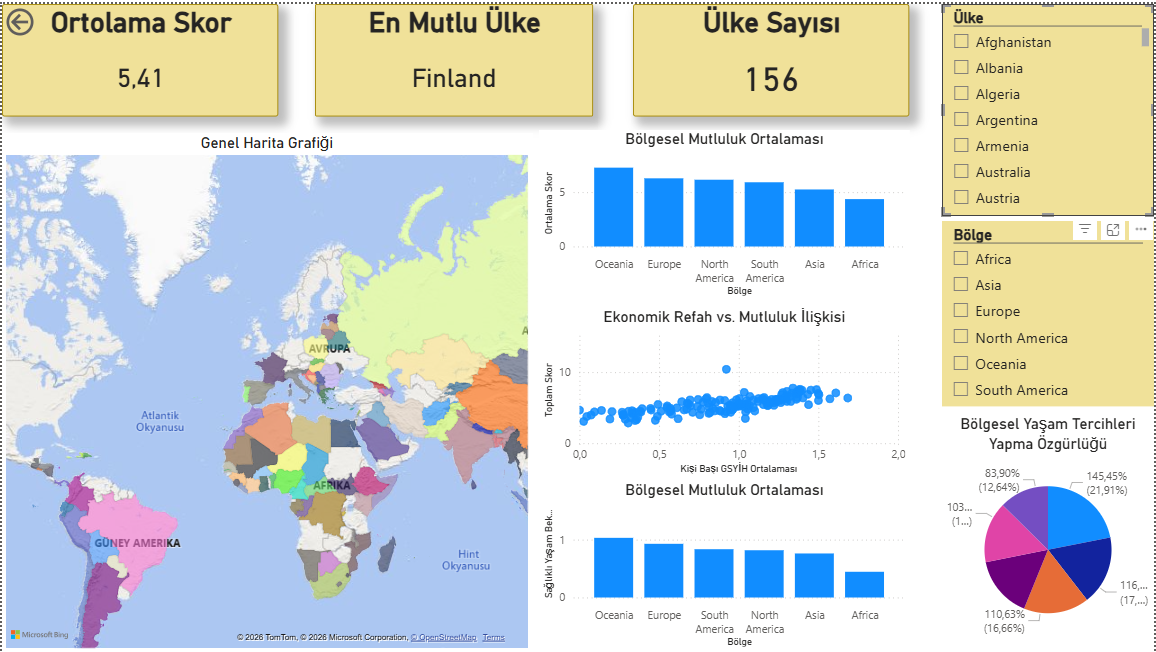

Layout of this report page (visuals, bound fields, positions):
{"tool":"powerbi","page":{"name":"Page 1","canvas":[1280,720],"ordinal":0},"visuals":[{"type":"card","title":"Ortolama Skor","fields":{"Values":["Worksheet.Ortalama Skor"]},"box":[0,0,307.4,125.5],"z":0},{"type":"card","title":"En Mutlu Ülke","fields":{"Values":["Worksheet.En Mutlu Ulke"]},"box":[347.8,0,308.7,125.3],"z":1000},{"type":"slicer","fields":{"Values":["Worksheet.Country"]},"box":[1044.6,0,235.4,235.4],"z":2000},{"type":"slicer","fields":{"Values":["Worksheet.Region"]},"box":[1044.4,241.6,235.6,206.5],"z":3000},{"type":"card","title":"Ülke Sayısı","fields":{"Values":["Worksheet.Ülke Sayısı"]},"box":[701.6,0,306.7,125.3],"z":4000},{"type":"filledMap","title":"Genel Harita Grafiği","fields":{"Category":["Worksheet.Country"],"Series":["Worksheet.Score"]},"box":[0,143.1,588.6,577.1],"z":5000},{"type":"scatterChart","title":"Ekonomik Refah vs. Mutluluk İlişkisi","fields":{"X":["Avg(Worksheet.GDP per capita)"],"Category":["Worksheet.Score"],"Y":["Sum(Worksheet.Score)"]},"box":[596.4,336.8,412,190.4],"z":6000},{"type":"clusteredColumnChart","title":"Bölgesel Mutluluk Ortalaması","fields":{"Category":["Worksheet.Region"],"Y":["Avg(Worksheet.Score)"]},"box":[596.4,140.3,412,189.4],"z":7000},{"type":"actionButton","box":[0,0,100,40],"z":8000},{"type":"clusteredColumnChart","title":"Bölgesel Mutluluk Ortalaması","fields":{"Category":["Worksheet.Region"],"Y":["Avg(Worksheet.Healthy life expectancy)"]},"box":[596.4,530.2,412,189.4],"z":9000},{"type":"pieChart","title":"Bölgesel Yaşam Tercihleri Yapma Özgürlüğü","fields":{"Category":["Worksheet.Region"],"Y":["Sum(Worksheet.Freedom to make life choices)"]},"box":[1044.4,456.1,235.6,263.6],"z":10000}]}

Visuals, with their boxes in screenshot pixels (x1, y1, x2, y2), scaled from the page's 1280x720 canvas onto the 1156x652 screenshot:
"Ortolama Skor" card: x1=0 y1=0 x2=278 y2=114
"En Mutlu Ülke" card: x1=314 y1=0 x2=593 y2=113
slicer - Worksheet.Country: x1=943 y1=0 x2=1155 y2=213
slicer - Worksheet.Region: x1=943 y1=219 x2=1155 y2=406
"Ülke Sayısı" card: x1=634 y1=0 x2=911 y2=113
"Genel Harita Grafiği" filledMap: x1=0 y1=130 x2=532 y2=651
"Ekonomik Refah vs. Mutluluk İlişkisi" scatterChart: x1=539 y1=305 x2=911 y2=477
"Bölgesel Mutluluk Ortalaması" clusteredColumnChart: x1=539 y1=127 x2=911 y2=299
actionButton: x1=0 y1=0 x2=90 y2=36
"Bölgesel Mutluluk Ortalaması" clusteredColumnChart: x1=539 y1=480 x2=911 y2=651
"Bölgesel Yaşam Tercihleri Yapma Özgürlüğü" pieChart: x1=943 y1=413 x2=1155 y2=651
